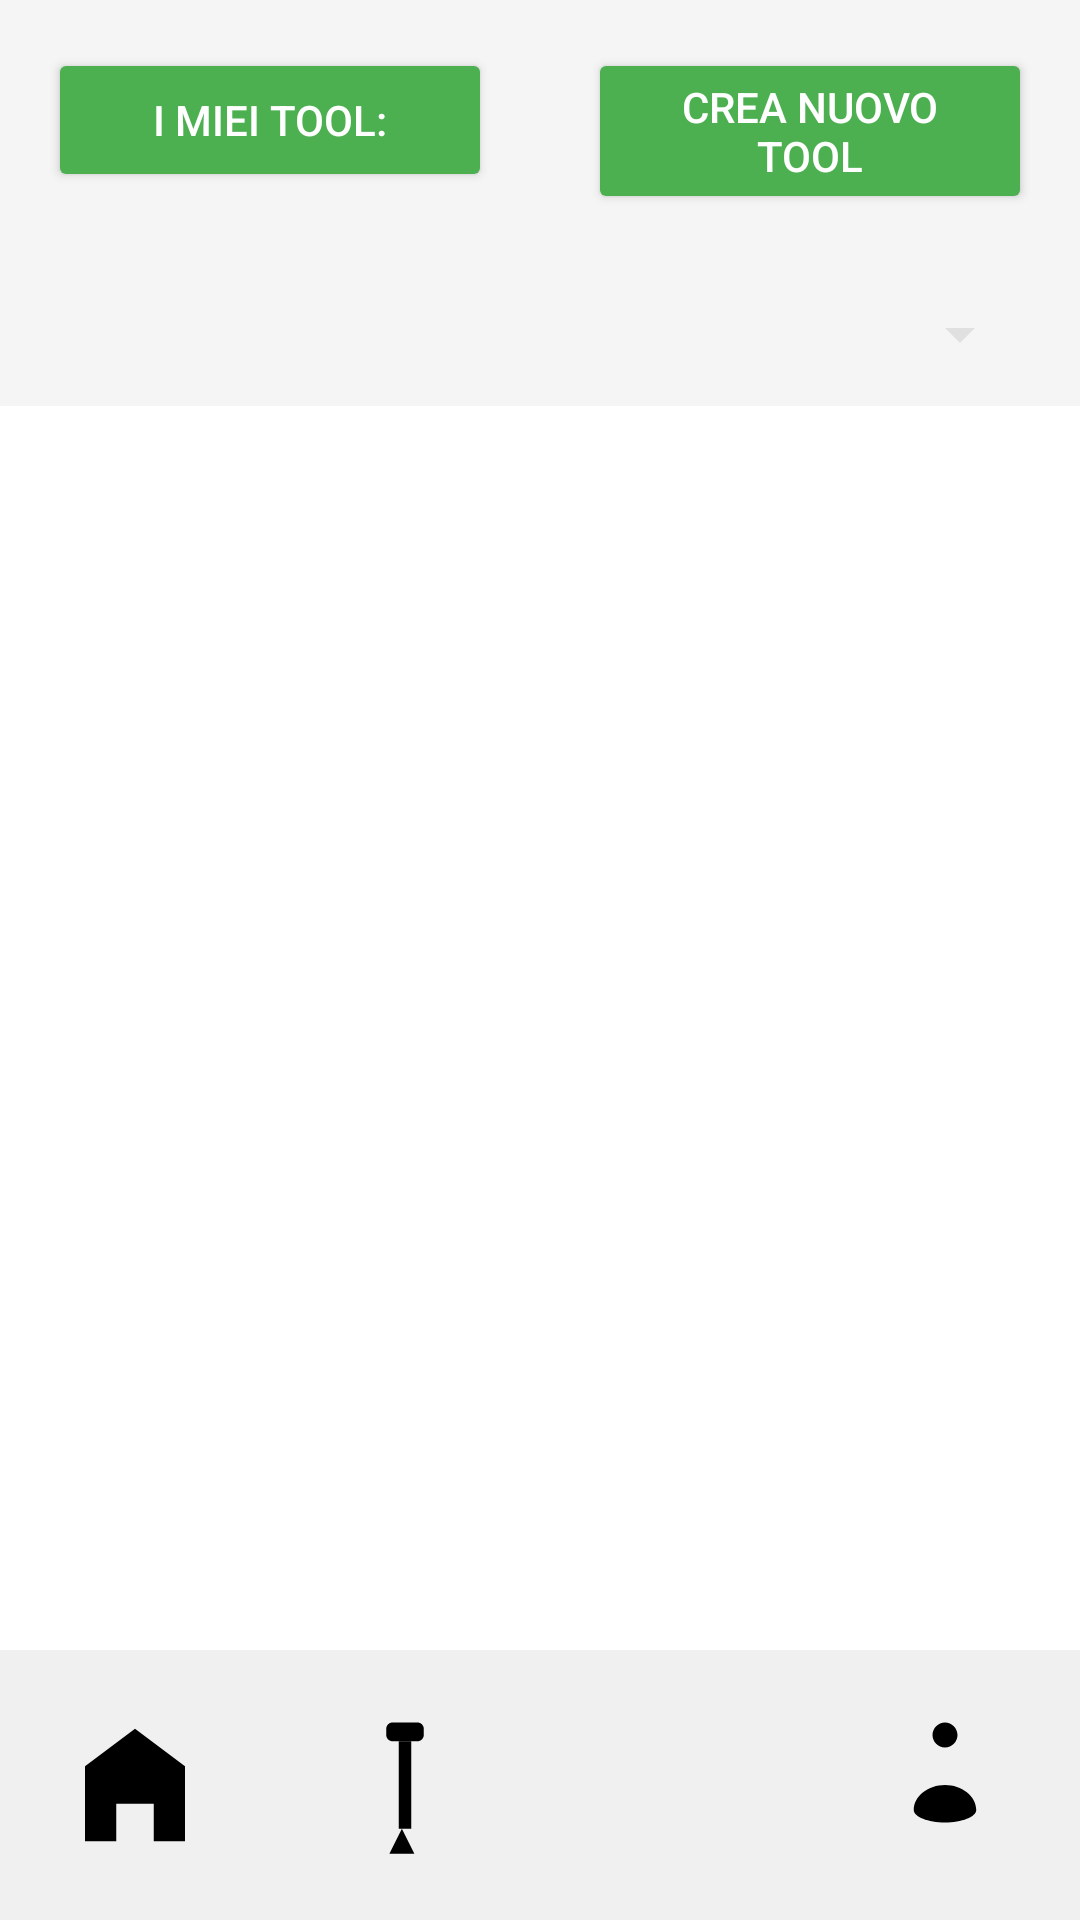

Where to tap for icons on this 1080px x 1920px app screen, as (x,y):
Home: (135,1785)
Profilo: (945,1772)
tool: (405,1788)
